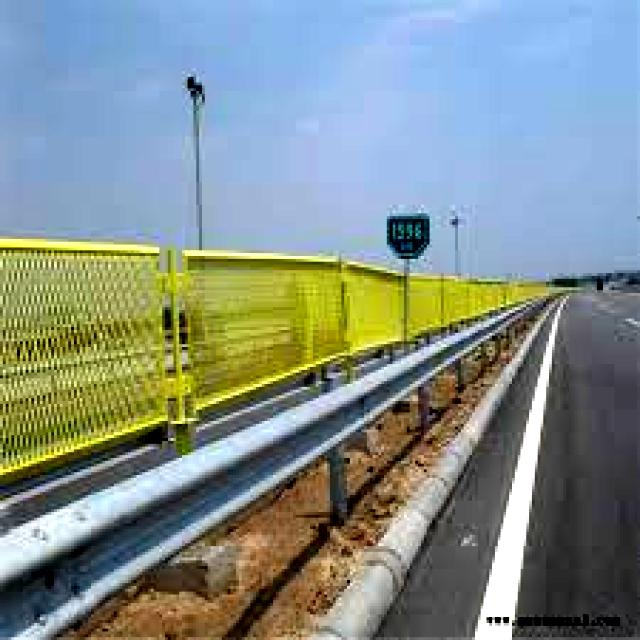Guard rail: (0, 302, 544, 639)
